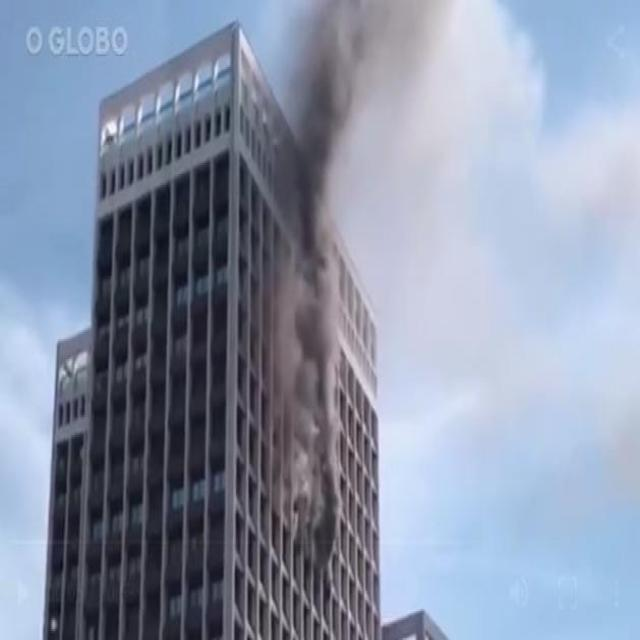Smoke: (281, 14, 371, 554)
